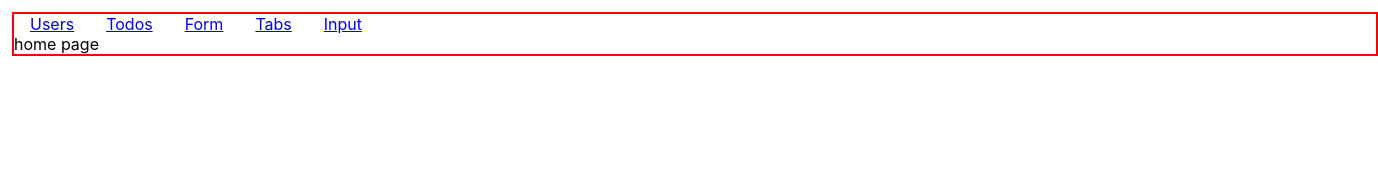
Test: other tests › tabs selection state can be asserted on
Expected: the text "home page" is shown, [14,34,99,54]
Click the link "Tabs" at (273, 24), box [255,14,291,34]
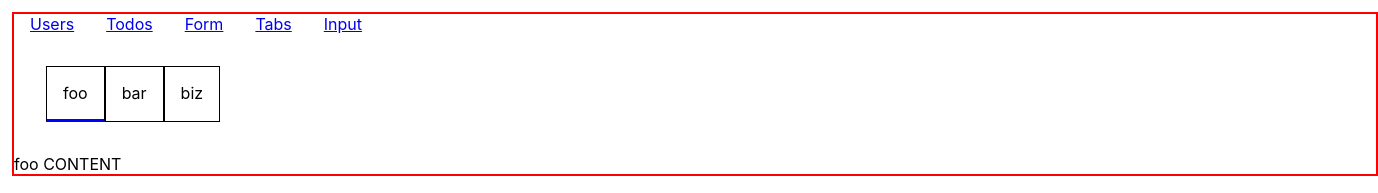
Expected: the tab "foo" is shown, [46,66,105,122]
